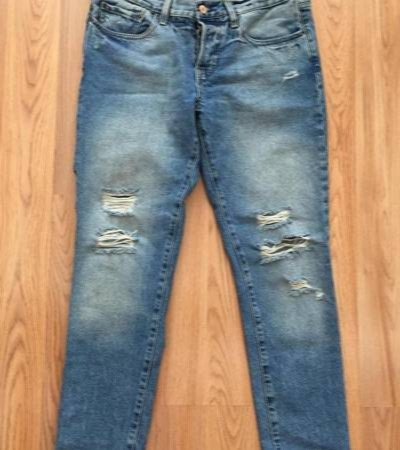Pants: (47, 10, 366, 448)
